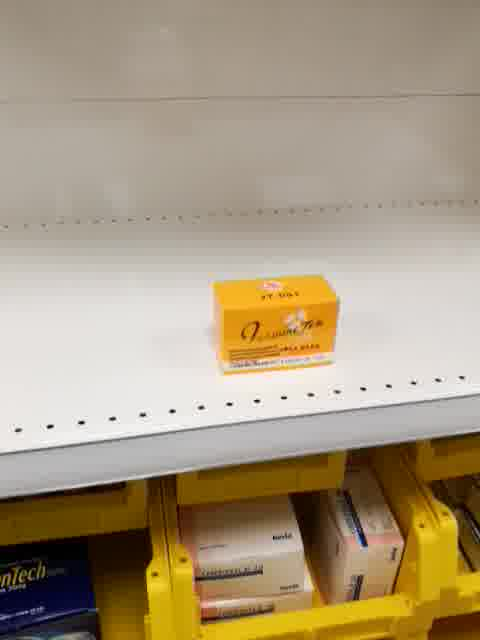jasminetea: (210, 271, 342, 378)
